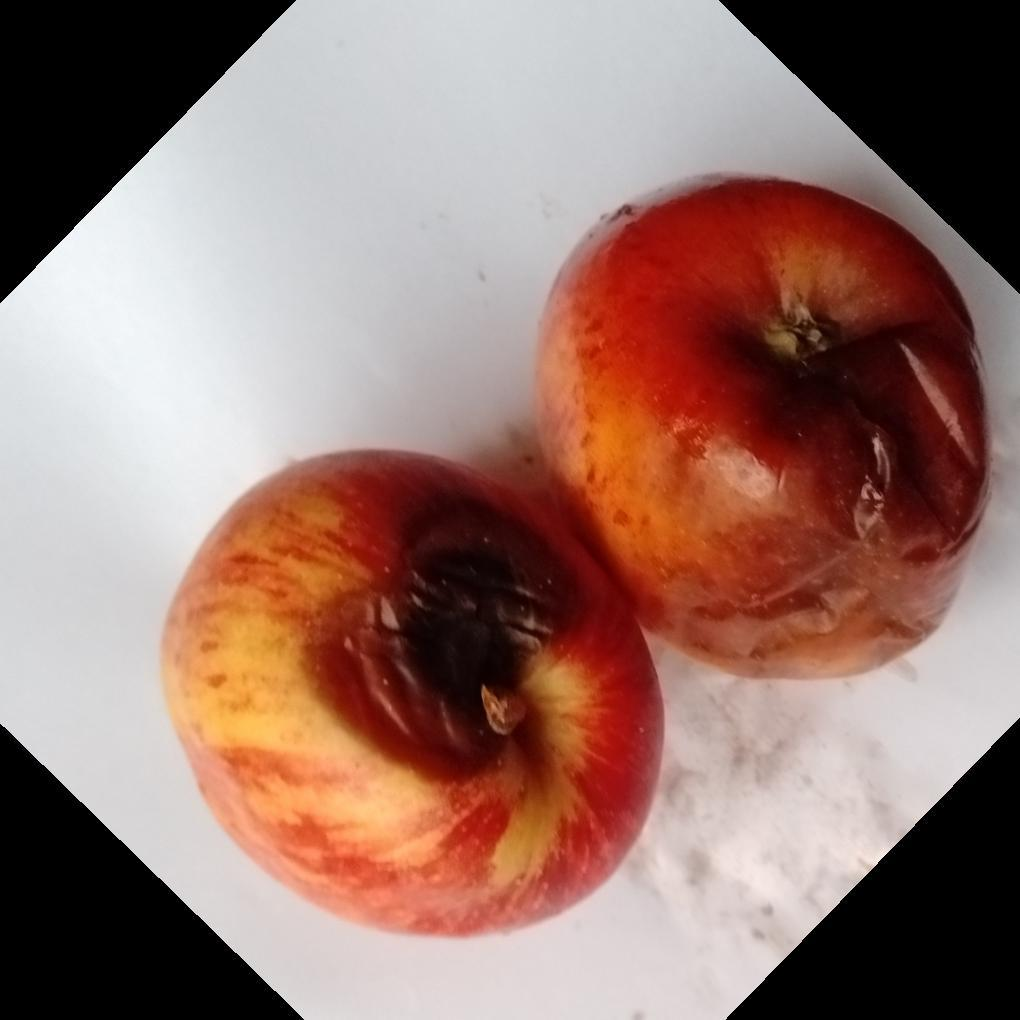FreshOrange: (158, 174, 993, 945)
